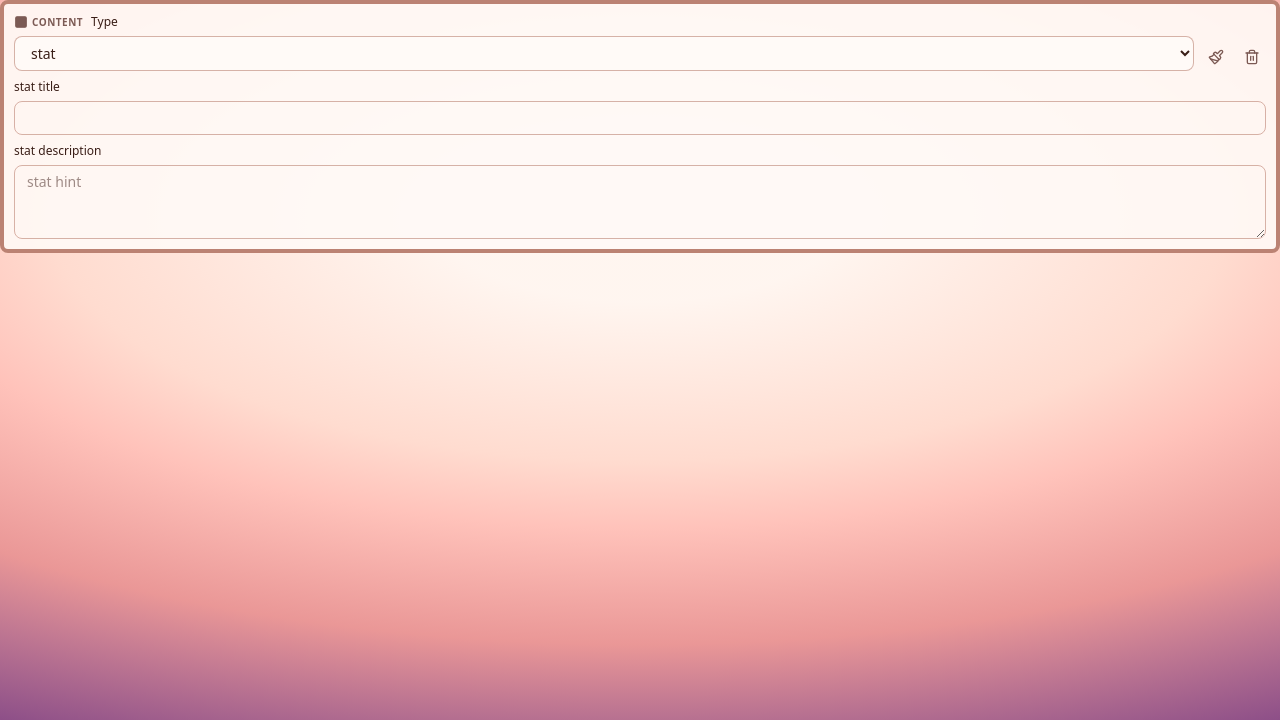
Test: LeafEditor › its own style popup › offers the skin, background and border fields on every kind
Click the button named "Section style". click: (1216, 57)
box: [1202, 43, 1230, 71]
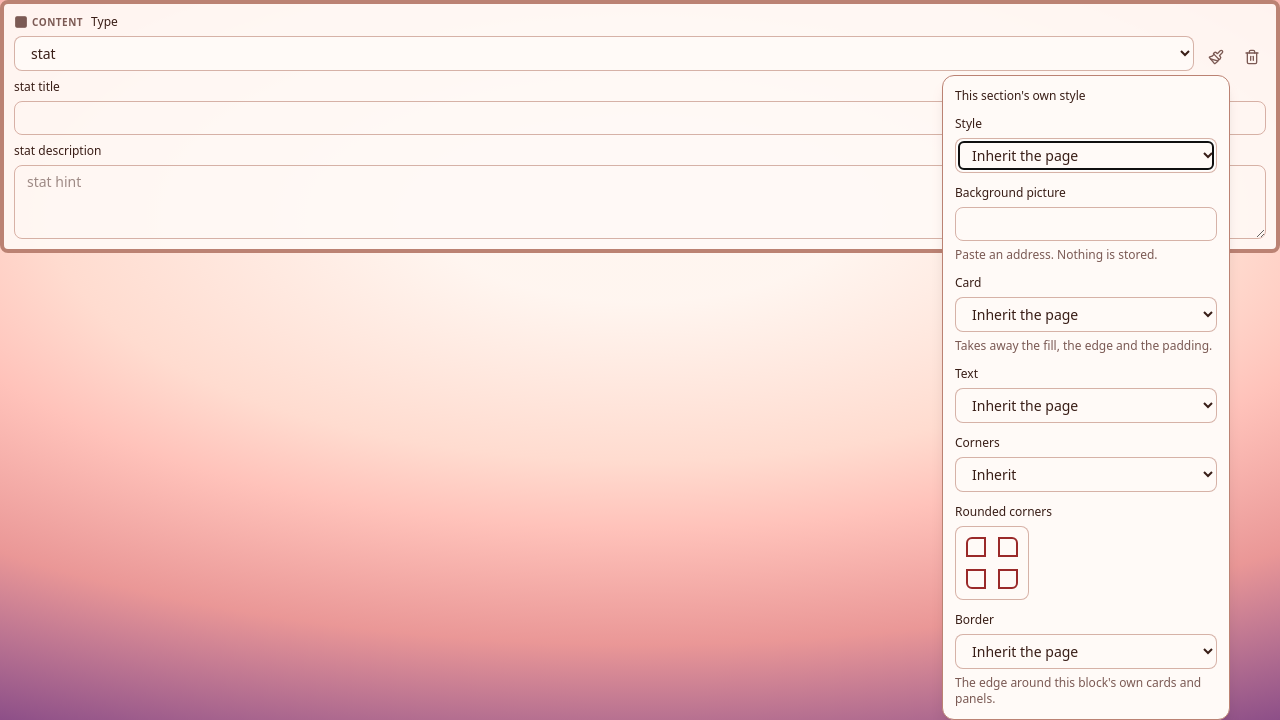
Result: the dropdown labelled "Style" is shown at [955, 138, 1217, 173]
Result: the field labelled "Background picture" is shown at [955, 207, 1217, 241]
Result: the dropdown labelled "Border" is shown at [955, 634, 1217, 669]
